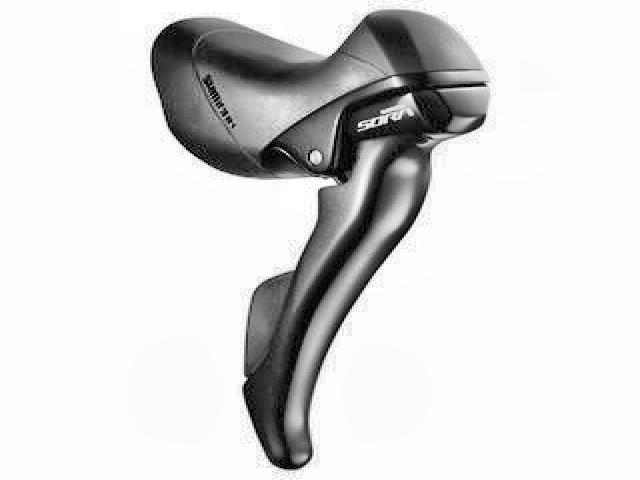sti_shifter: (148, 7, 496, 471)
